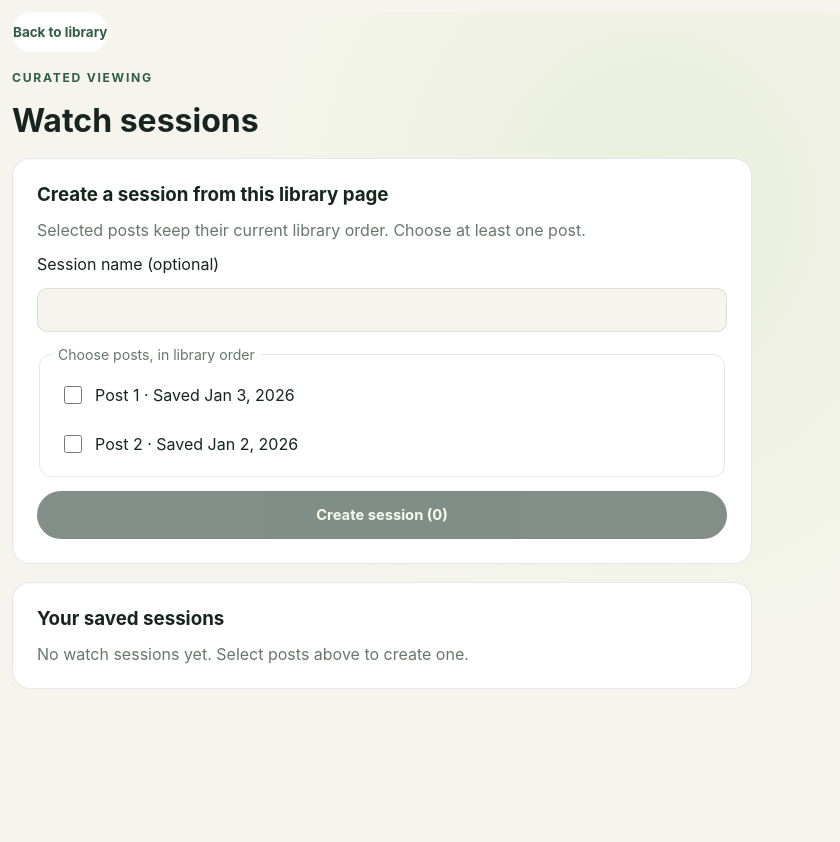
Scenario: watch sessions › shows safe creation errors and retries without exposing server details
Click the checkbox labelled "Post 1 · Saved Jan 3, 2026" at (73, 395), box [64,386,82,404]
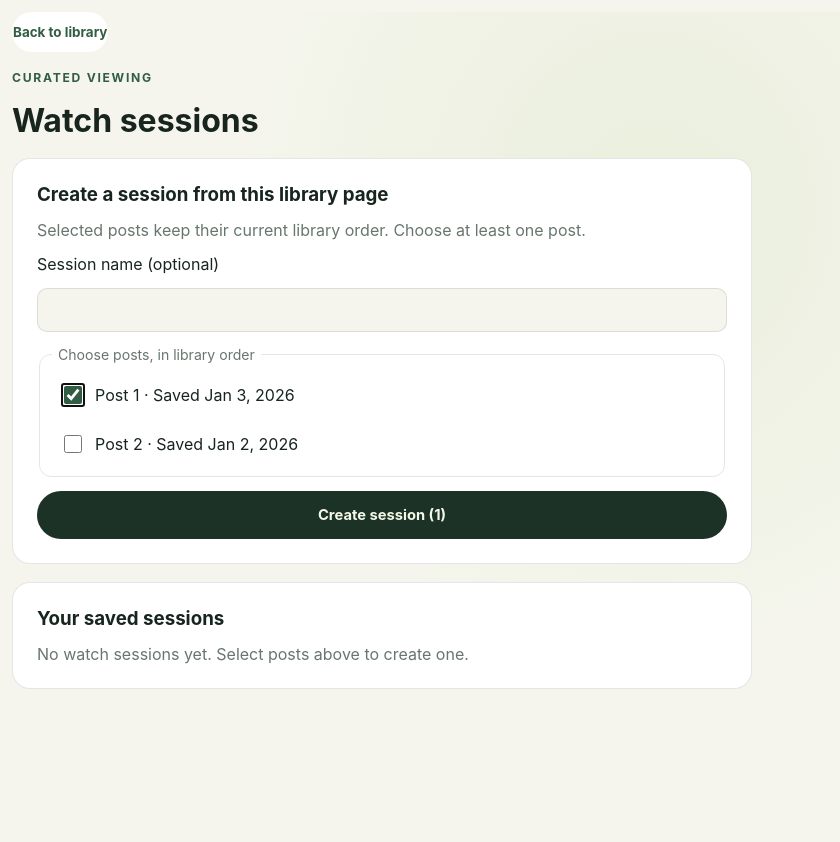
Click the button "Create session (1)" at (382, 515), box [37,491,727,539]
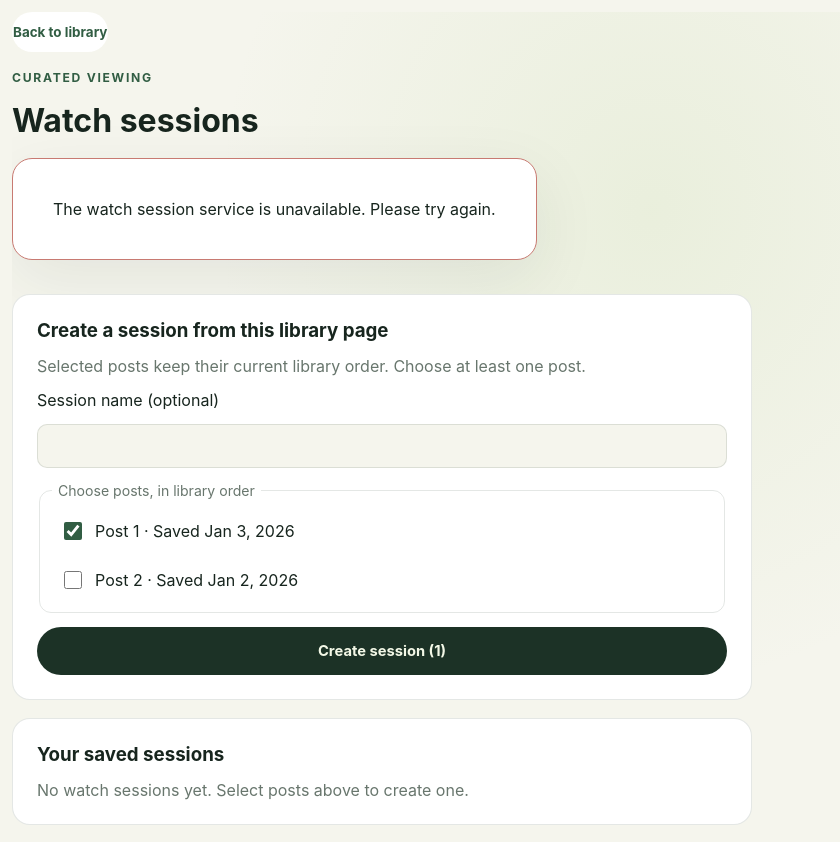
Now the message reads "The watch session service is unavailable. Please try again.", box [53,199,496,219]
